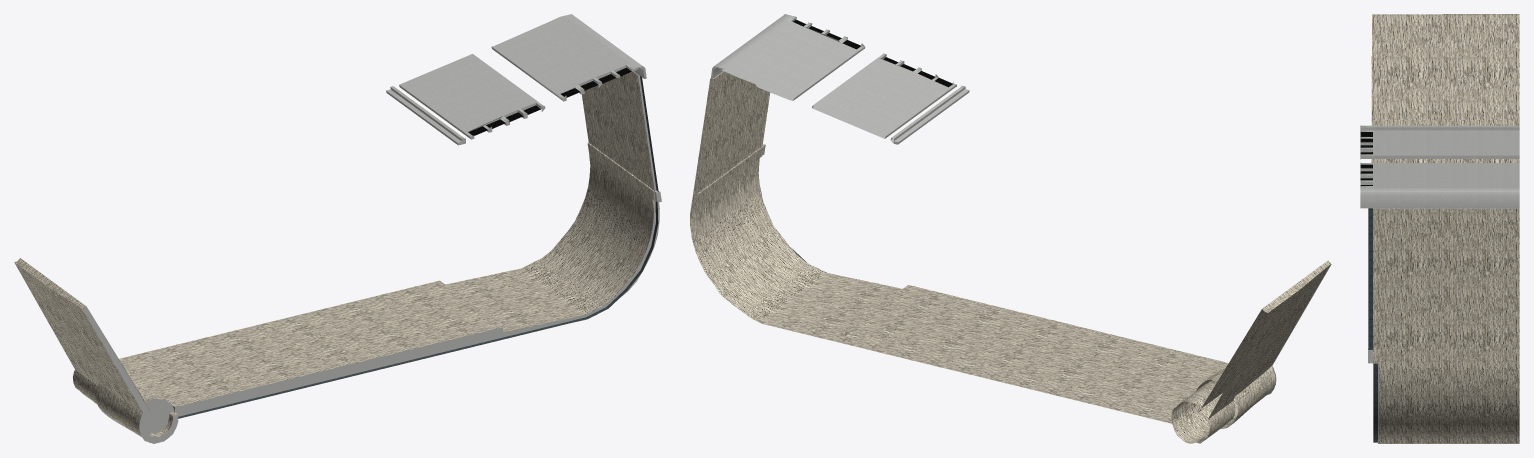
The model's file is Toompea_Falgi_myyr-origo.obj.
3 views of the same model, side by side, from view 1: azimuth 30°, elevation 25°; view 2: azimuth 150°, elevation 25°; view 3: azimuth 270°, elevation 25° (orthographic). The views are drawn at different scales.
Parts seen in each view (by area): view 1: Toompea_Falgi_myyr; view 2: Toompea_Falgi_myyr; view 3: Toompea_Falgi_myyr.
Part boxes in pixels (x1,y1,x2,y2): Toompea_Falgi_myyr: (14,14,661,443); Toompea_Falgi_myyr: (690,14,1331,443); Toompea_Falgi_myyr: (1360,14,1519,443).
Bounding box in the file's own units: 117 × 51 × 24.96.
